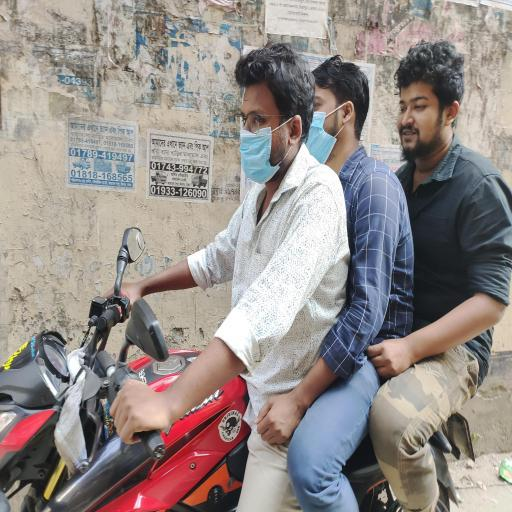no helmet: (228, 52, 316, 255)
triple riding: (0, 26, 512, 508)
